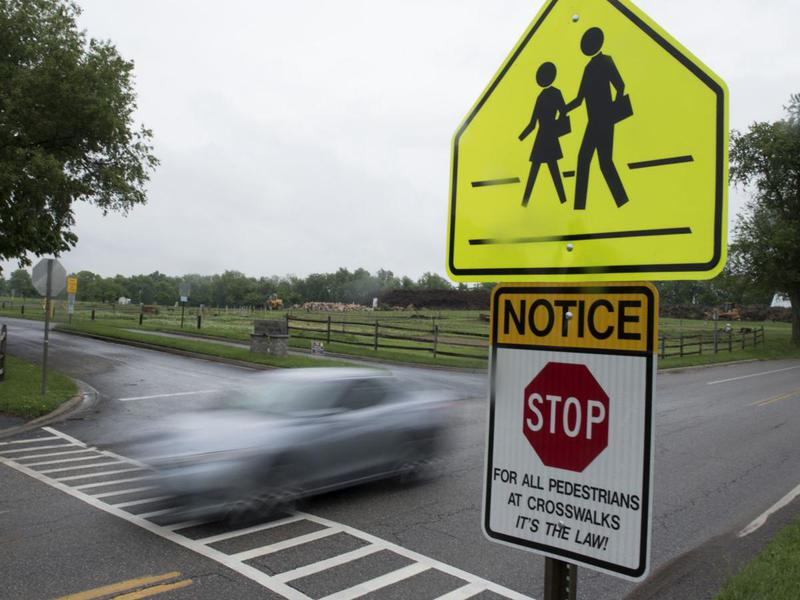slow: (442, 1, 733, 287)
